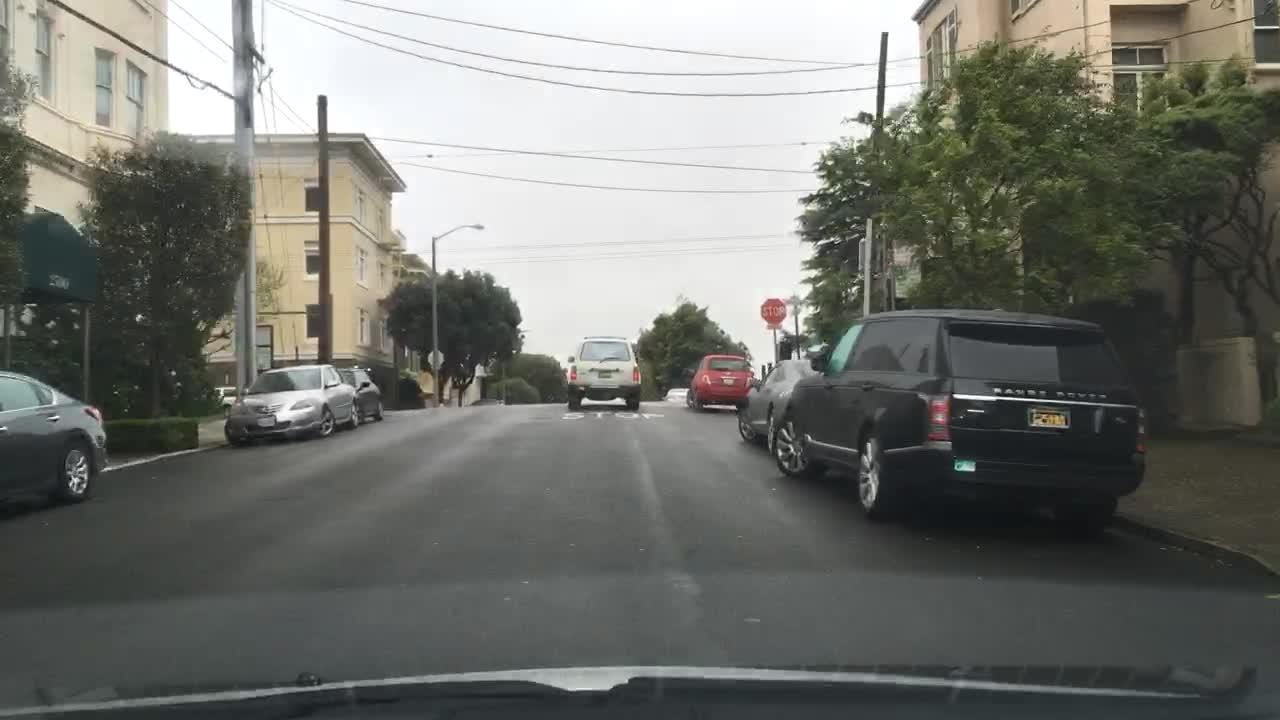range rover: (979, 375, 1117, 410)
